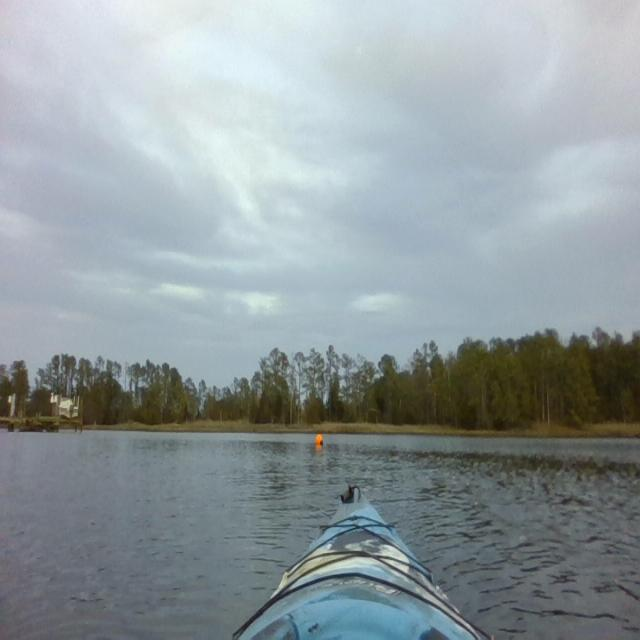Buoy: (314, 432, 324, 448)
